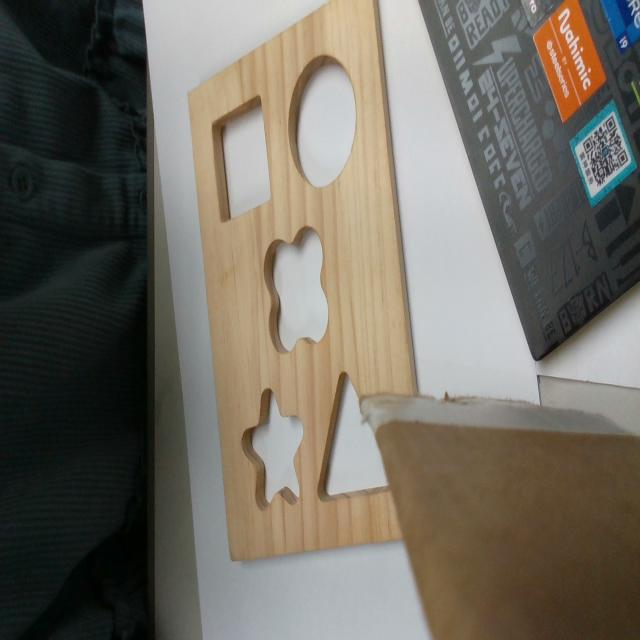circle: (291, 55, 357, 185)
flower: (263, 226, 328, 350)
square: (211, 93, 271, 222)
star: (241, 388, 303, 511)
triangle: (317, 369, 391, 503)
